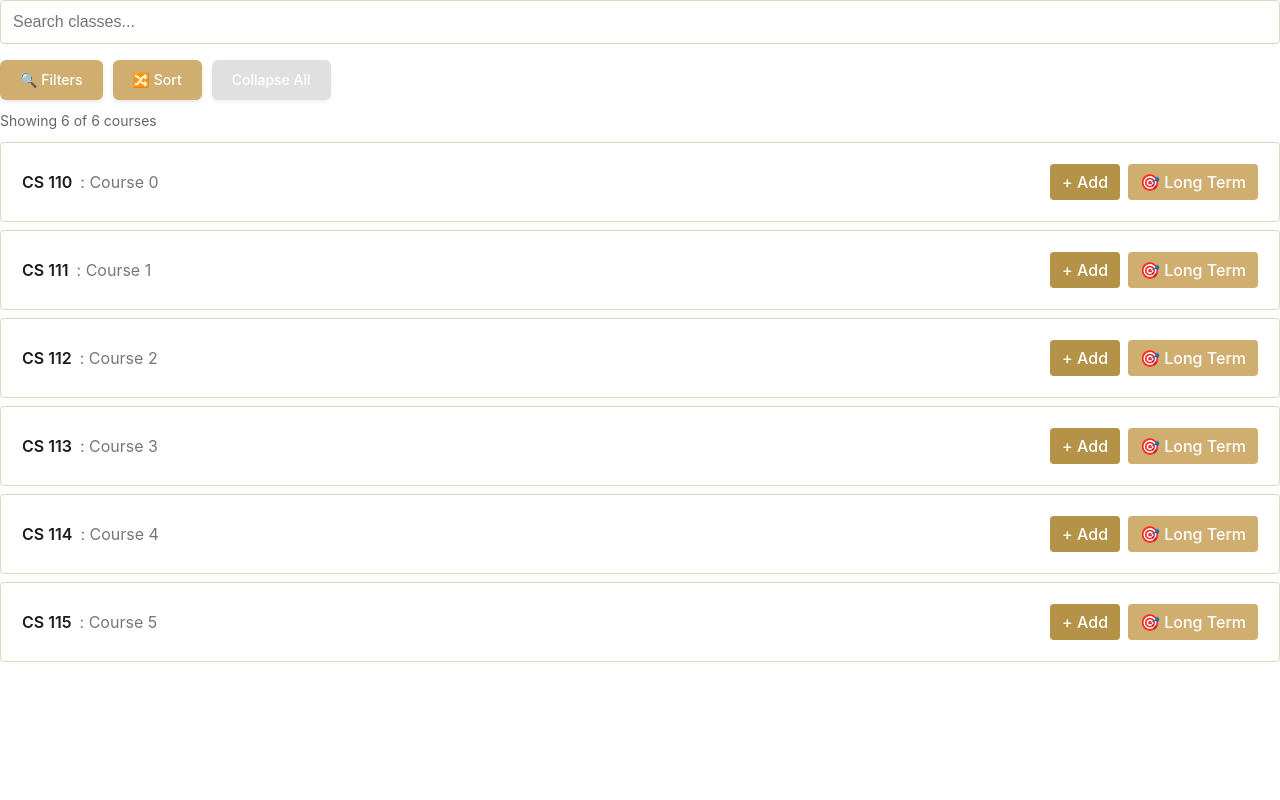
Test case: SearchPage › Filter Functionality › search within professors filter narrows options
Click the button "🔍 Filters" at (51, 80), box [0,60,102,100]
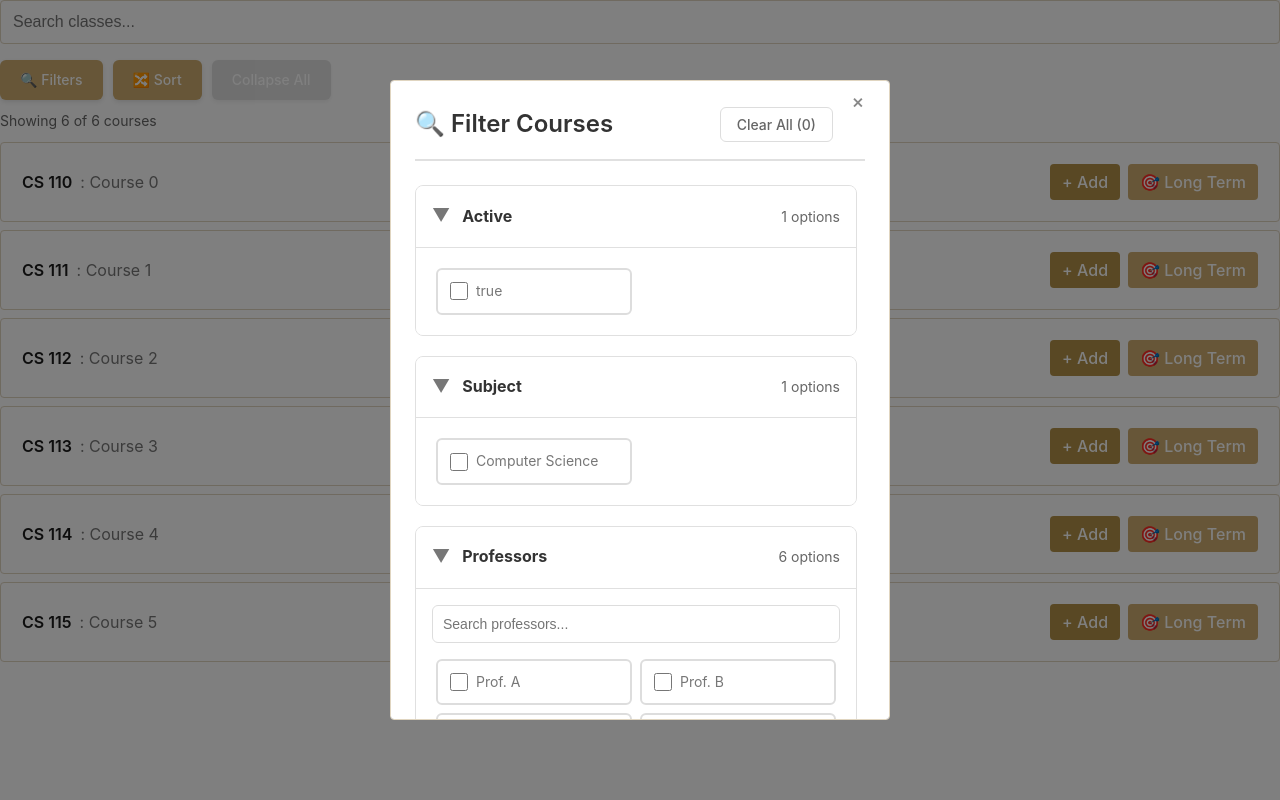
Now the text "Professors" is shown, box [462,544,547,570]
Type "Prof. A" into the field with placeholder "Search professors..." at (636, 624), box [432,605,840,643]
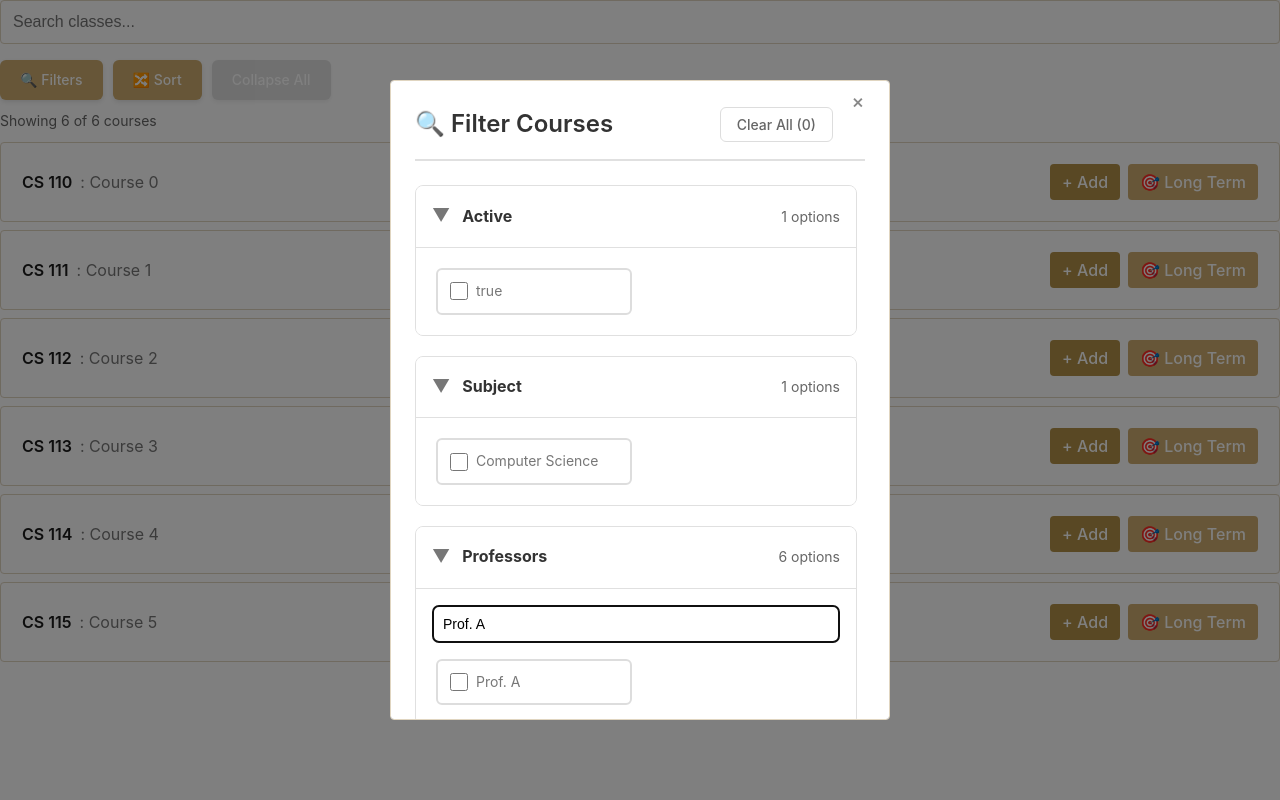
Now the checkbox labelled "Prof. A" is shown, box [450,673,468,691]
Now the text labelled "Prof. B" is gone
